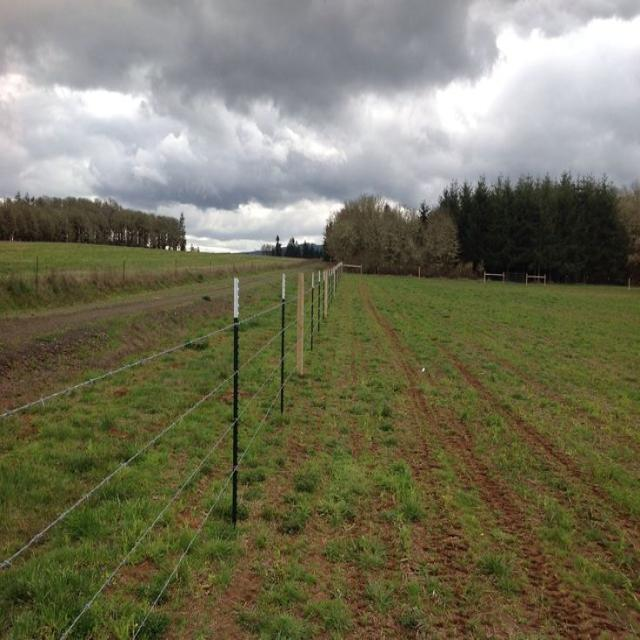fence: (1, 273, 329, 639)
